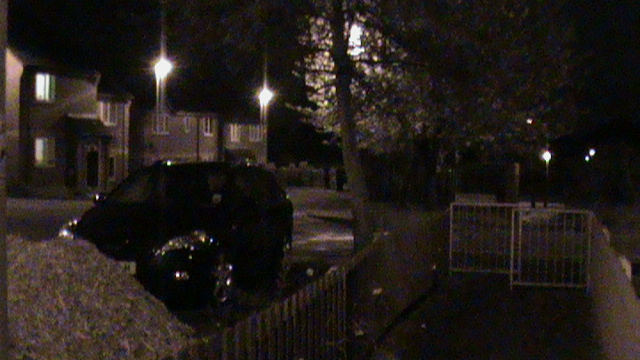car: (47, 152, 303, 321)
